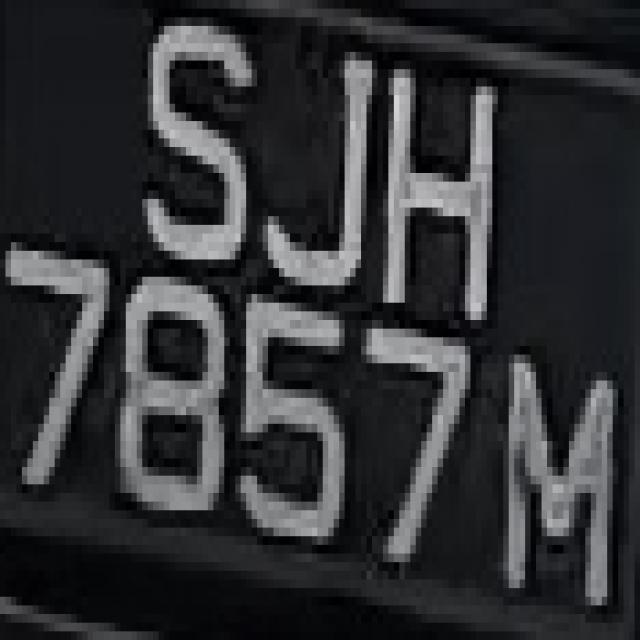5: (213, 277, 350, 562)
7: (0, 216, 115, 536), (350, 294, 476, 580)
8: (109, 234, 230, 554)
H: (377, 43, 509, 355)
J: (257, 26, 378, 294)
M: (481, 328, 618, 622)
S: (131, 8, 252, 276)
